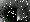person: (19, 8, 26, 20)
